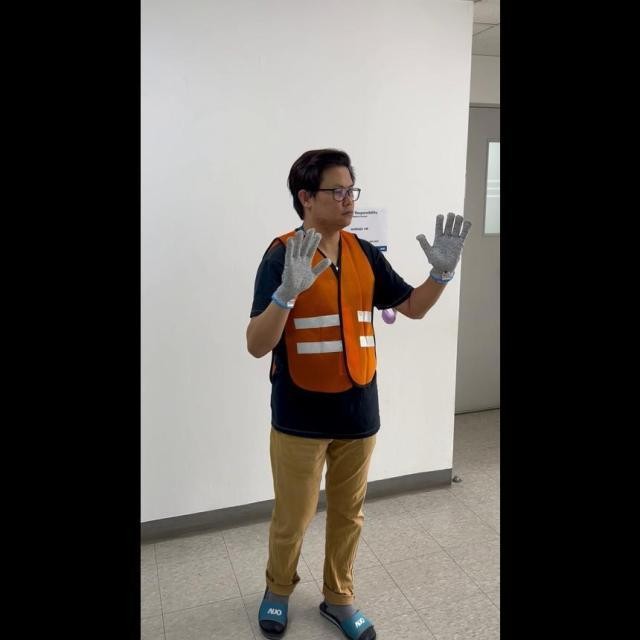gloved_hand: (269, 227, 329, 306), (414, 208, 469, 280)
